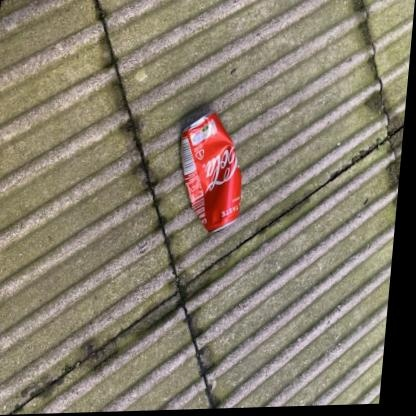trash: (181, 113, 240, 230)
